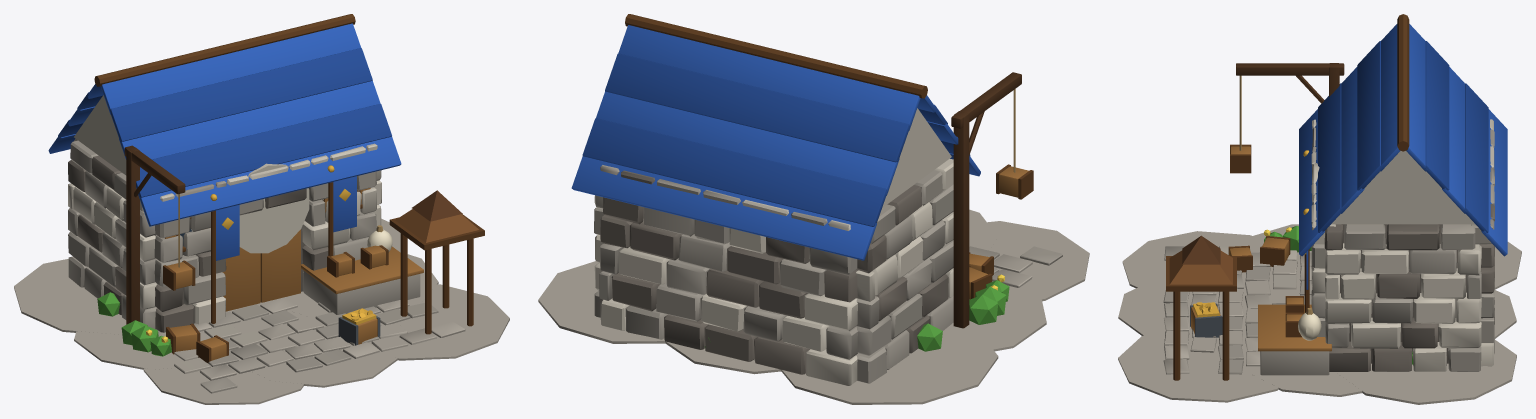
The model's file is magazyn_poz15.glb.
3 renders of one model, left to right at view 1: azimuth 30°, elevation 25°; view 2: azimuth 150°, elevation 25°; view 3: azimuth 270°, elevation 25°, orthographic. The views are drawn at different scales.
Parts seen in each view (by area): view 1: magazyn_poz15; view 2: magazyn_poz15; view 3: magazyn_poz15.
Part boxes in pixels (box(x1,y1,x2,y2)): magazyn_poz15: box(14, 14, 509, 404); magazyn_poz15: box(538, 14, 1089, 404); magazyn_poz15: box(1118, 14, 1521, 404).
Bounding box in the file's own units: 8.83 × 5.45 × 8.2.
